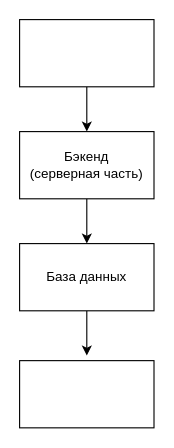
Some shapes in this 174 by 448 pixel diagram are drawn without their labels. The shapes that lost their labels are listed below. From the top down, each one's box as (x1, y1, x2, y2) in pixels, then its label:
(18, 18, 154, 87): Фронтенд (клиентская часть)
(18, 360, 154, 428): Аутентификация и авторизация
